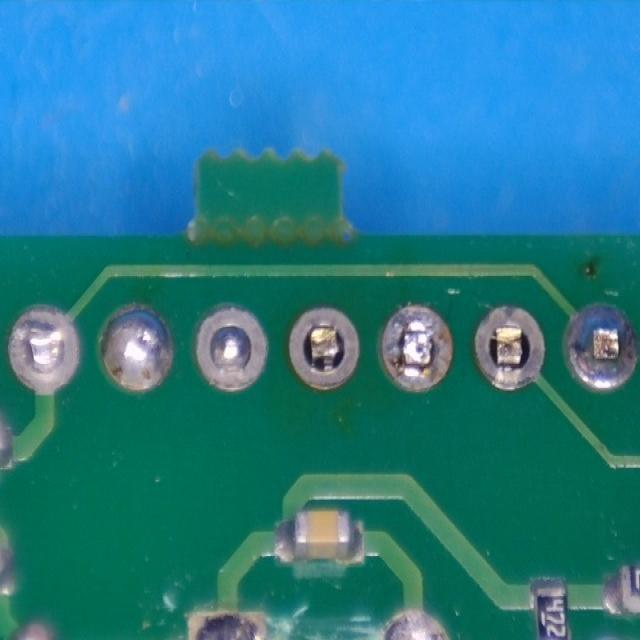Short_circuit: (193, 308, 265, 391), (101, 306, 172, 389), (380, 306, 451, 389)
